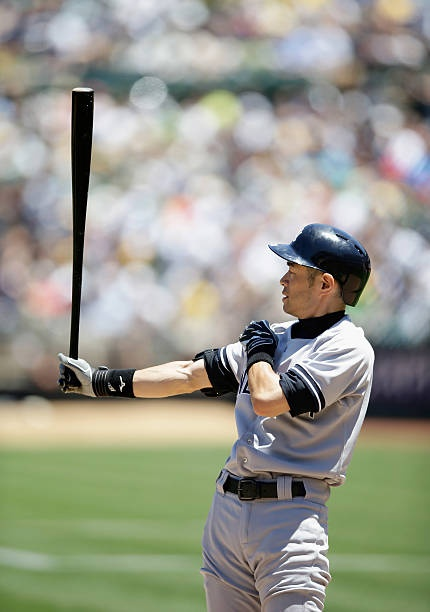bita: (57, 85, 97, 386)
